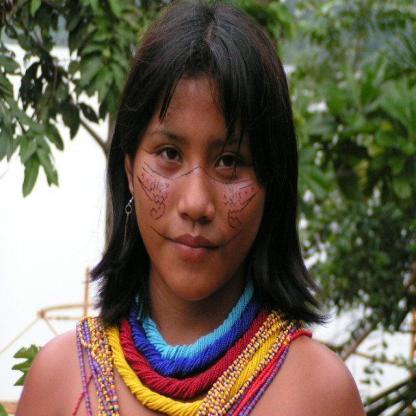person: (110, 27, 286, 294)
